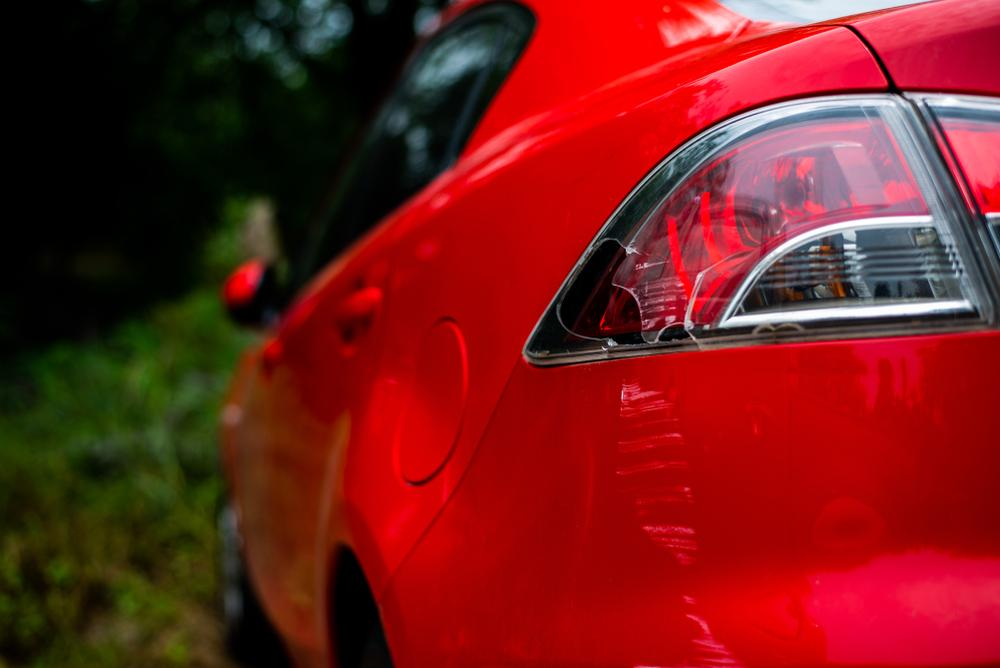lamp broken: (525, 91, 993, 364)
scratch: (616, 381, 743, 668)
